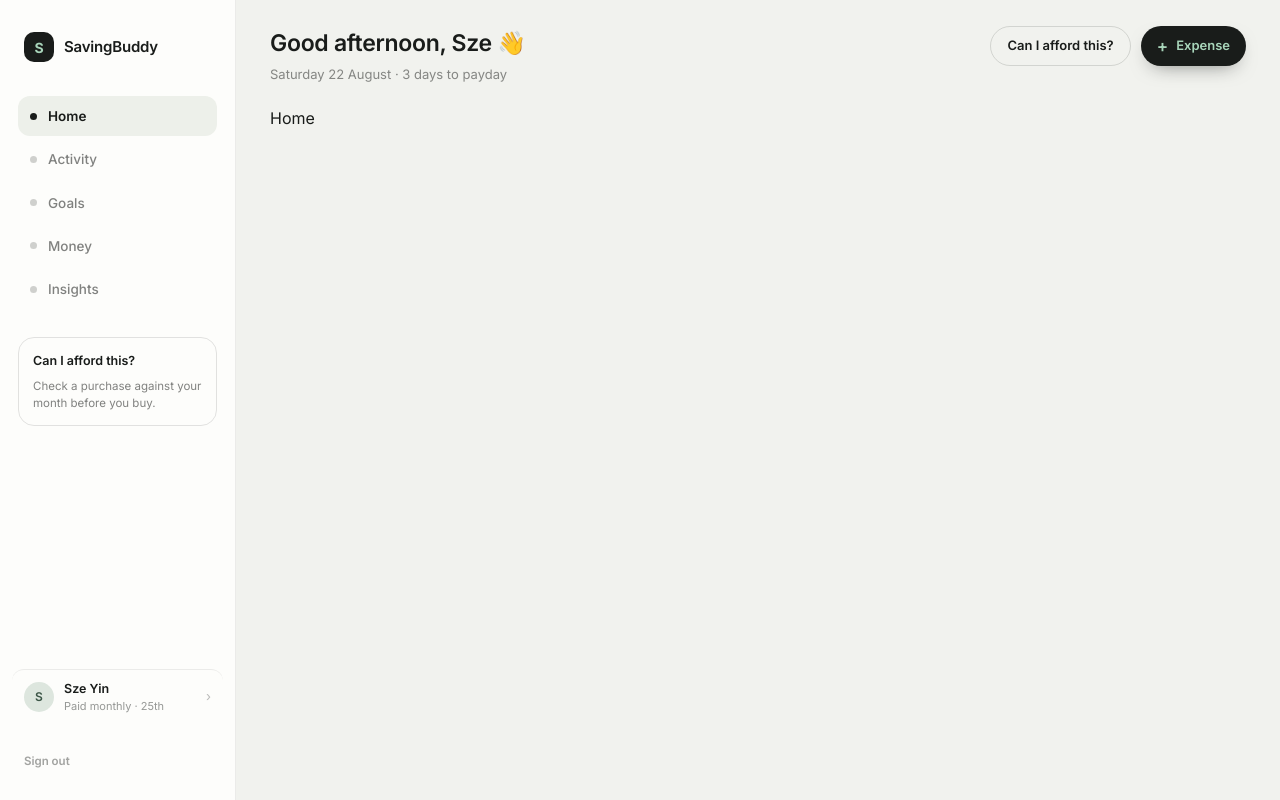
Scenario: AppShell primary action › adds an expense everywhere the screen is about money
Click the button "+ Expense": (1193, 46) [1141, 26, 1246, 66]
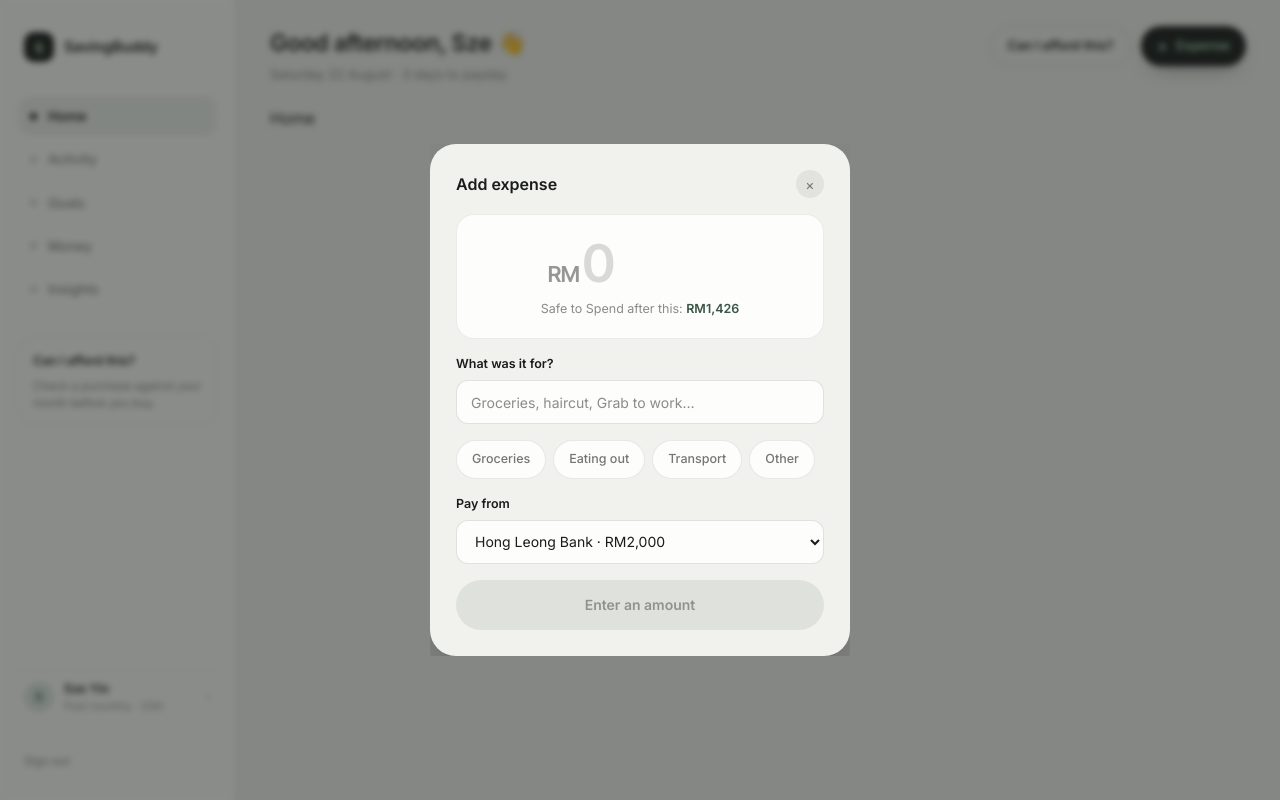
Expected: the heading "Add expense" is shown, [456, 172, 557, 196]
